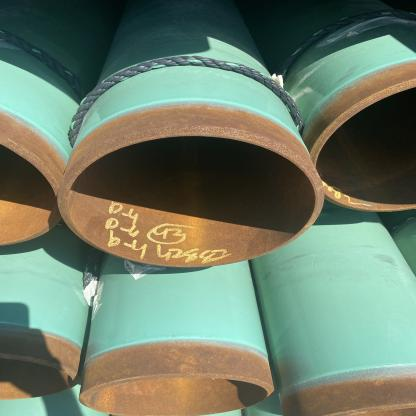clean: (144, 116, 191, 156)
